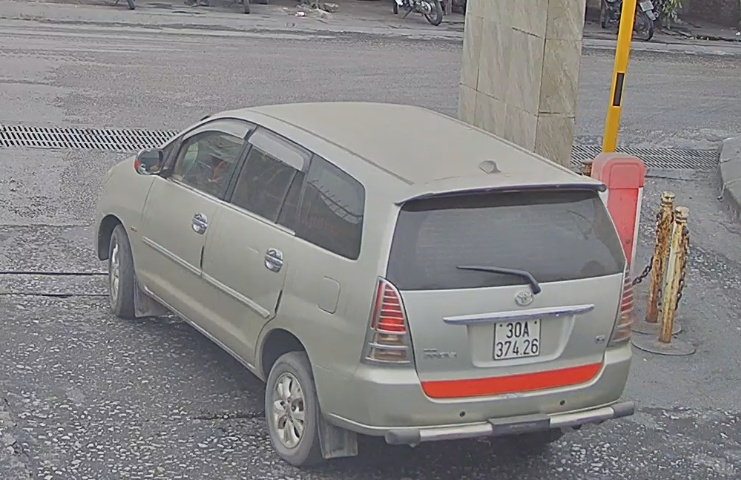vehicle plate: (488, 314, 543, 365)
